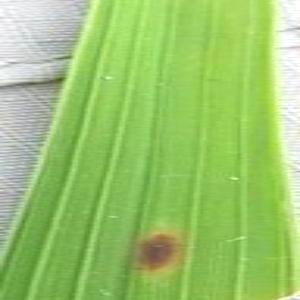0 BrownSpot: (129, 222, 191, 290)
